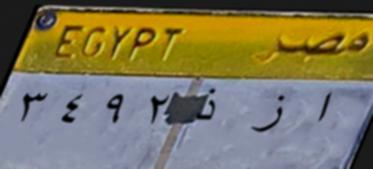2: (140, 89, 174, 128)
3: (18, 80, 50, 129)
4: (52, 88, 91, 128)
9: (96, 86, 133, 137)
alif: (308, 84, 342, 134)
zaal: (193, 82, 224, 136)
zay: (243, 86, 290, 146)
